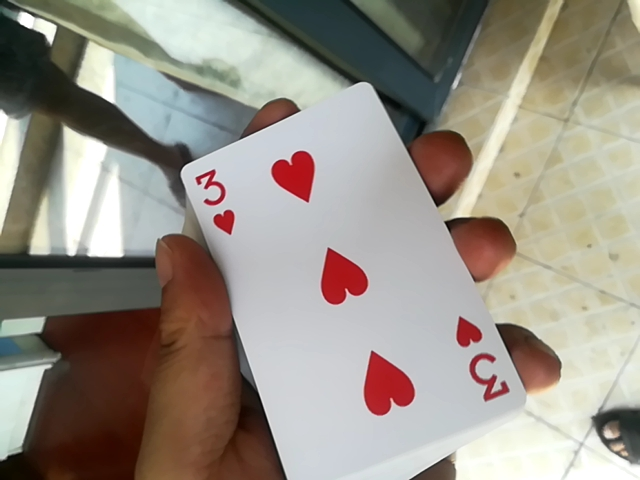hx 3: (158, 59, 505, 476)
